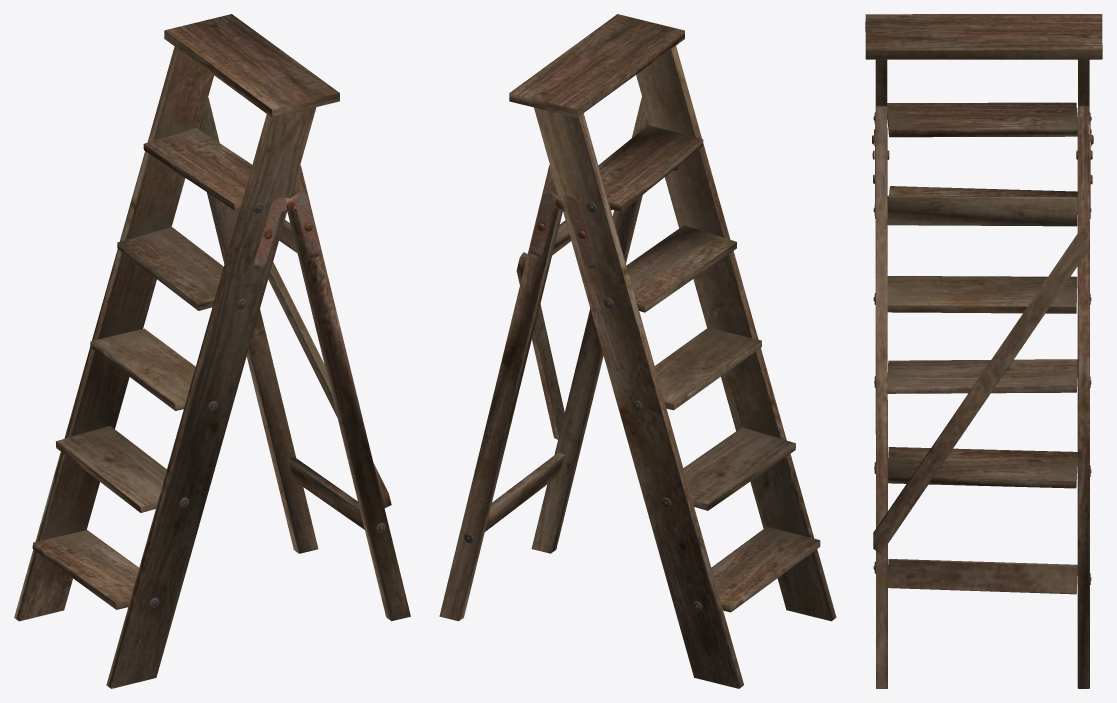
Rendered from ph_wooden_ladder_02.glb.
3 renders of one model, left to right at view 1: azimuth 30°, elevation 25°; view 2: azimuth 150°, elevation 25°; view 3: azimuth 270°, elevation 25°, orthographic. The views are drawn at different scales.
Visible parts, largest first — view 1: wooden_ladder_02; view 2: wooden_ladder_02; view 3: wooden_ladder_02.
Part boxes in pixels (x1,y1,x2,y2): wooden_ladder_02: (14, 14, 410, 688); wooden_ladder_02: (439, 14, 836, 688); wooden_ladder_02: (865, 14, 1102, 688).
Size of the model in its own units: 0.9895 by 1.72 by 0.6181.
Materials: 1 (1 with a texture image).
